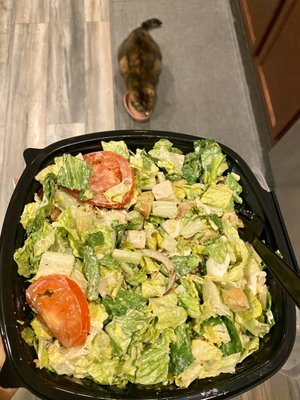curry: (181, 139, 229, 186), (37, 152, 92, 192)
